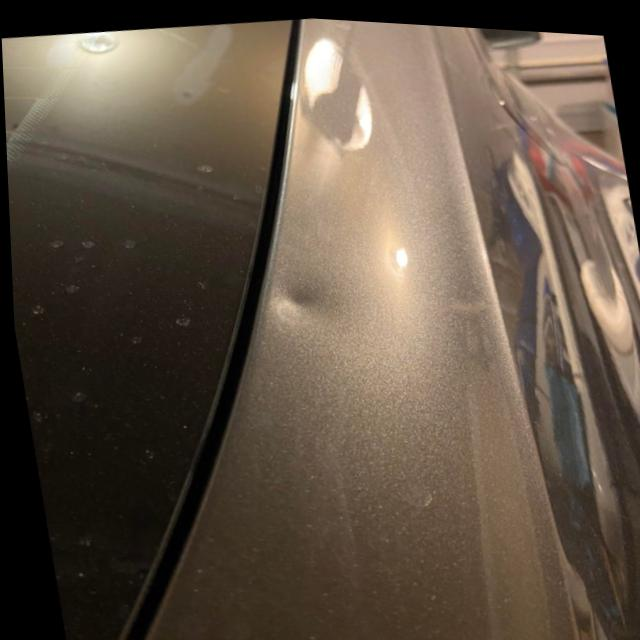Dent: (268, 257, 346, 336)
